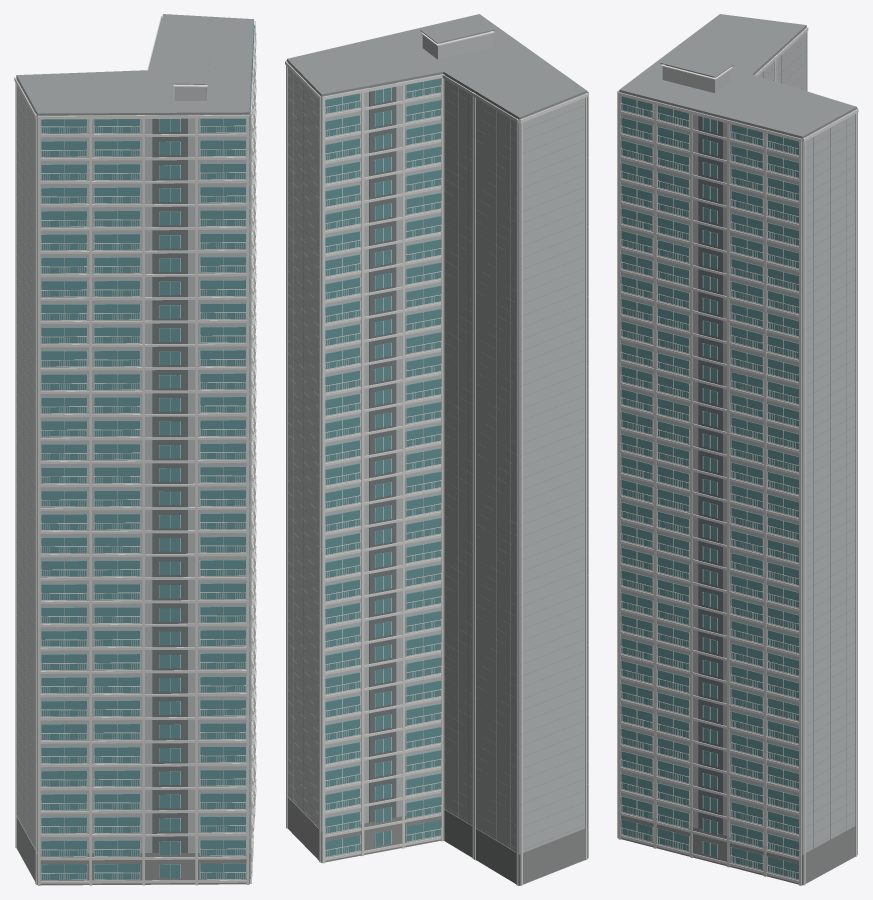
The model's file is bespoke-jamsil-ricenz-208.glb.
The picture shows the model from 3 angles, left to right: view 1: azimuth 30°, elevation 25°; view 2: azimuth 150°, elevation 25°; view 3: azimuth 270°, elevation 25°; orthographic projection. The views are drawn at different scales.
Visible parts, largest first — view 1: Ricenz208_editable_Ricenz208_turquoise_balcony_glazing, Ricenz208_editable_Ricenz208_light_grey_solid_wall, Ricenz208_white_exact_chunk_1, Ricenz208_white_exact_chunk_0, Ricenz208_editable_Ricenz208_modest_grey_flat_roof_caps, Ricenz208_editable_Ricenz208_narrow_charcoal_service_strips, Ricenz208_white_exact_chunk_3, Ricenz208_editable_Ricenz208_muted_ground_wall, Ricenz208_white_exact_chunk_2; view 2: Ricenz208_editable_Ricenz208_light_grey_solid_wall, Ricenz208_editable_Ricenz208_turquoise_balcony_glazing, Ricenz208_white_exact_chunk_4, Ricenz208_editable_Ricenz208_modest_grey_flat_roof_caps, Ricenz208_white_exact_chunk_3, Ricenz208_editable_Ricenz208_narrow_charcoal_service_strips, Ricenz208_editable_Ricenz208_muted_ground_wall, Ricenz208_white_exact_chunk_0, Ricenz208_white_exact_chunk_1; view 3: Ricenz208_editable_Ricenz208_light_grey_solid_wall, Ricenz208_editable_Ricenz208_turquoise_balcony_glazing, Ricenz208_white_exact_chunk_3, Ricenz208_white_exact_chunk_2, Ricenz208_editable_Ricenz208_modest_grey_flat_roof_caps, Ricenz208_editable_Ricenz208_narrow_charcoal_service_strips, Ricenz208_white_exact_chunk_1, Ricenz208_editable_Ricenz208_muted_ground_wall, Ricenz208_white_exact_chunk_4.
Boxes of the visible parts, box(x1,y1,x2,y2) form: Ricenz208_editable_Ricenz208_turquoise_balcony_glazing: box(41, 24, 254, 879); Ricenz208_editable_Ricenz208_light_grey_solid_wall: box(16, 25, 253, 852); Ricenz208_white_exact_chunk_1: box(37, 115, 252, 885); Ricenz208_white_exact_chunk_0: box(14, 77, 142, 884); Ricenz208_editable_Ricenz208_modest_grey_flat_roof_caps: box(16, 14, 253, 845); Ricenz208_editable_Ricenz208_narrow_charcoal_service_strips: box(152, 47, 252, 852); Ricenz208_white_exact_chunk_3: box(250, 20, 256, 883); Ricenz208_editable_Ricenz208_muted_ground_wall: box(16, 816, 250, 885); Ricenz208_white_exact_chunk_2: box(250, 75, 255, 857); Ricenz208_editable_Ricenz208_light_grey_solid_wall: box(287, 31, 586, 853); Ricenz208_editable_Ricenz208_turquoise_balcony_glazing: box(325, 78, 440, 856); Ricenz208_white_exact_chunk_4: box(322, 31, 518, 885); Ricenz208_editable_Ricenz208_modest_grey_flat_roof_caps: box(287, 14, 587, 849); Ricenz208_white_exact_chunk_3: box(285, 60, 402, 862); Ricenz208_editable_Ricenz208_narrow_charcoal_service_strips: box(369, 82, 396, 822); Ricenz208_editable_Ricenz208_muted_ground_wall: box(287, 796, 587, 885); Ricenz208_white_exact_chunk_0: box(520, 93, 588, 885); Ricenz208_white_exact_chunk_1: box(587, 91, 588, 858); Ricenz208_editable_Ricenz208_light_grey_solid_wall: box(619, 27, 856, 854); Ricenz208_editable_Ricenz208_turquoise_balcony_glazing: box(621, 96, 798, 879); Ricenz208_white_exact_chunk_3: box(618, 92, 858, 885); Ricenz208_white_exact_chunk_2: box(620, 96, 763, 873); Ricenz208_editable_Ricenz208_modest_grey_flat_roof_caps: box(619, 14, 856, 849); Ricenz208_editable_Ricenz208_narrow_charcoal_service_strips: box(698, 112, 723, 834); Ricenz208_white_exact_chunk_1: box(617, 90, 653, 845); Ricenz208_editable_Ricenz208_muted_ground_wall: box(621, 811, 855, 885); Ricenz208_white_exact_chunk_4: box(661, 27, 857, 854).
Size of the model in its own units: 34.53 by 99.36 by 28.34.
